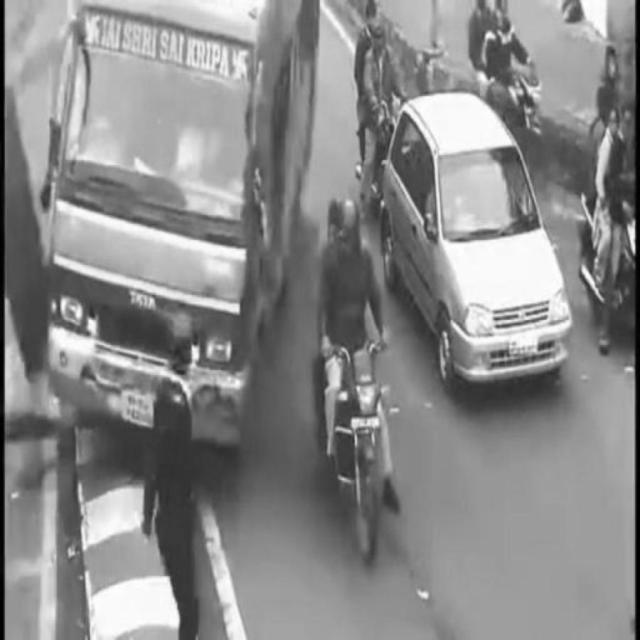accident: (37, 5, 307, 453)
person: (133, 318, 224, 640)
vehicle: (382, 93, 576, 387), (316, 196, 400, 567), (350, 2, 408, 192)
